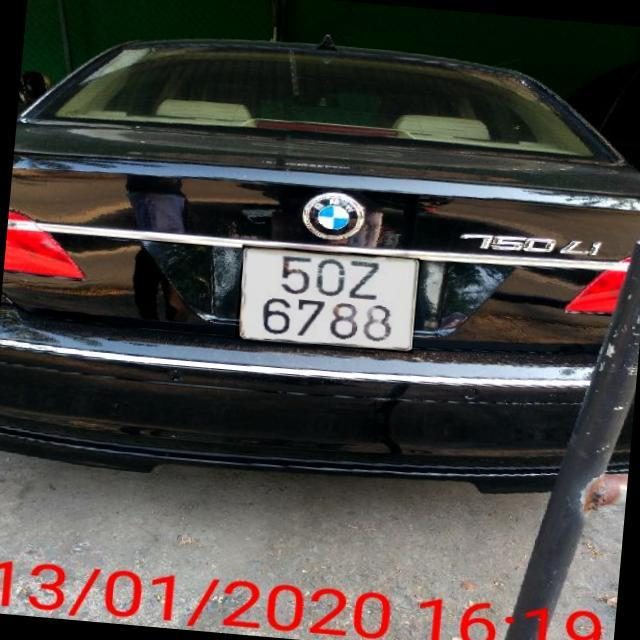car: (13, 0, 640, 485)
plate: (236, 239, 422, 360)
